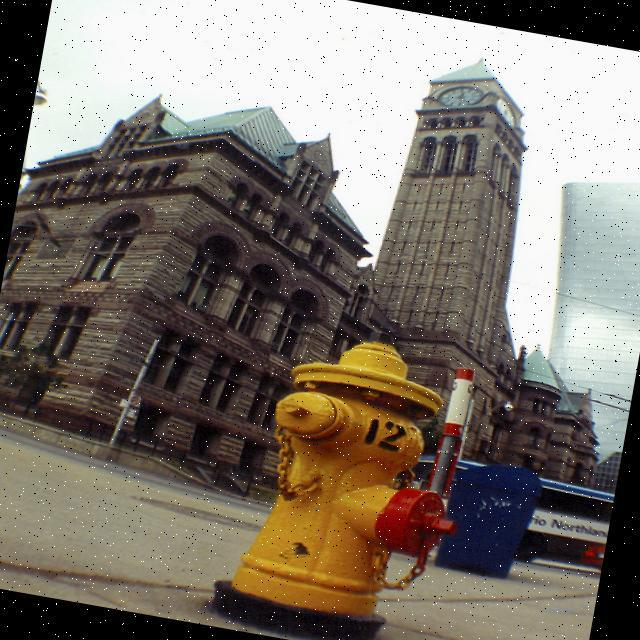fire_hydrant: (205, 312, 488, 640)
